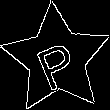P_NW: (30, 29, 83, 90)
